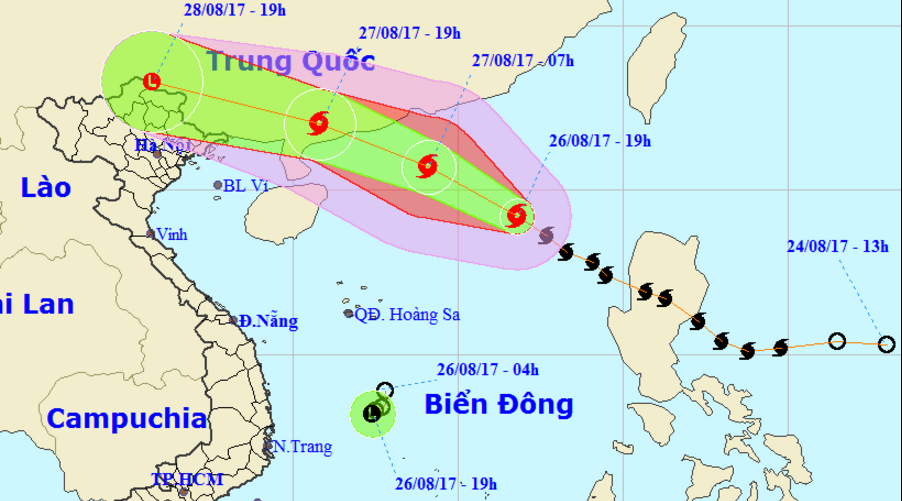Island: (324, 275, 464, 338)
